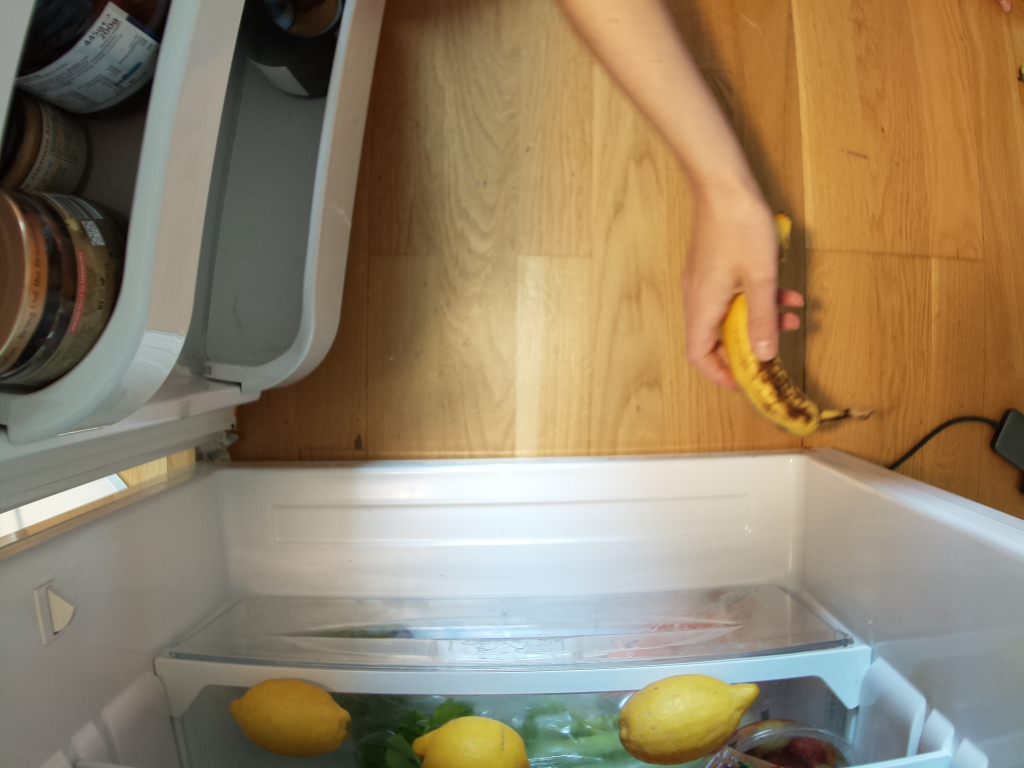banana-overripe: (724, 212, 880, 433)
